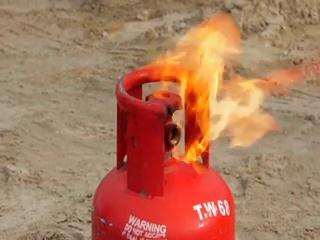Fire: (138, 4, 300, 170)
